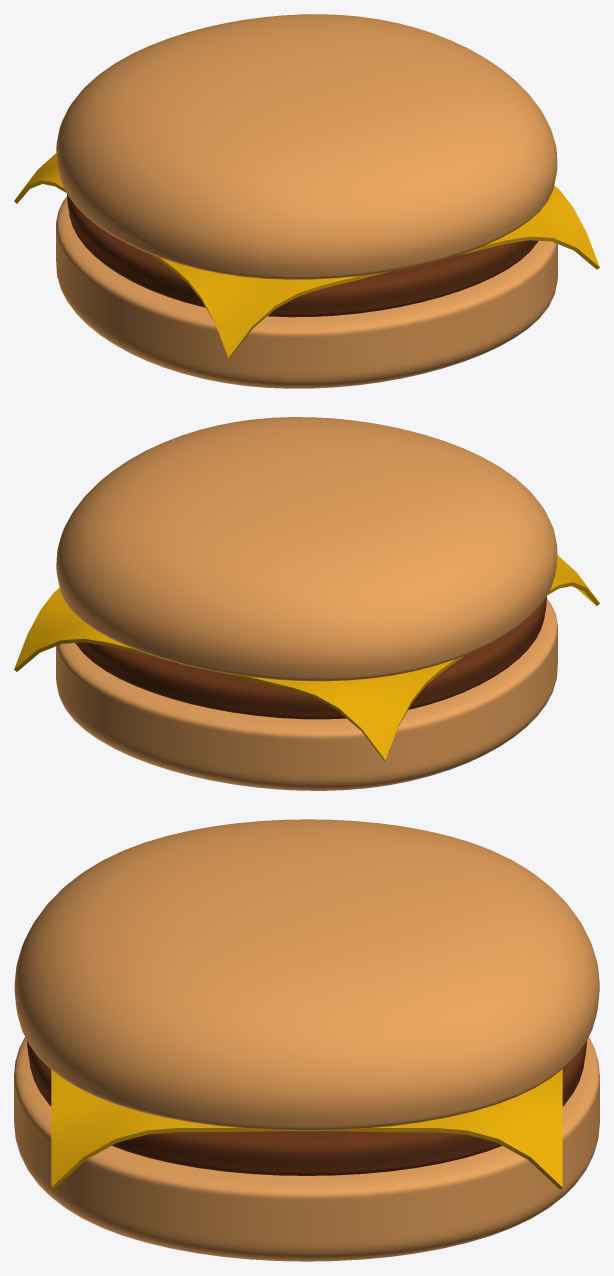
File: hamburger.glb
3 renders of one model, top to bottom at view 1: azimuth 30°, elevation 25°; view 2: azimuth 150°, elevation 25°; view 3: azimuth 270°, elevation 25°, orthographic. The views are drawn at different scales.
Parts seen in each view (by area): view 1: Cube.002, Cube, Cube.001, Plane; view 2: Cube.002, Cube, Cube.001, Plane; view 3: Cube.002, Cube, Cube.001, Plane.
Boxes of the visible parts, left/top/right/bottom form: Cube.002: left=56, top=14, right=557, bottom=279; Cube: left=56, top=196, right=557, bottom=388; Cube.001: left=67, top=194, right=538, bottom=317; Plane: left=14, top=153, right=599, bottom=359; Cube.002: left=56, top=417, right=557, bottom=681; Cube: left=56, top=598, right=557, bottom=790; Cube.001: left=75, top=596, right=546, bottom=719; Plane: left=14, top=555, right=599, bottom=761; Cube.002: left=14, top=819, right=599, bottom=1130; Cube: left=14, top=1037, right=599, bottom=1261; Cube.001: left=26, top=1040, right=587, bottom=1175; Plane: left=51, top=1069, right=562, bottom=1189.
Size of the model in its own units: 9.17 by 4.8 by 9.17.
